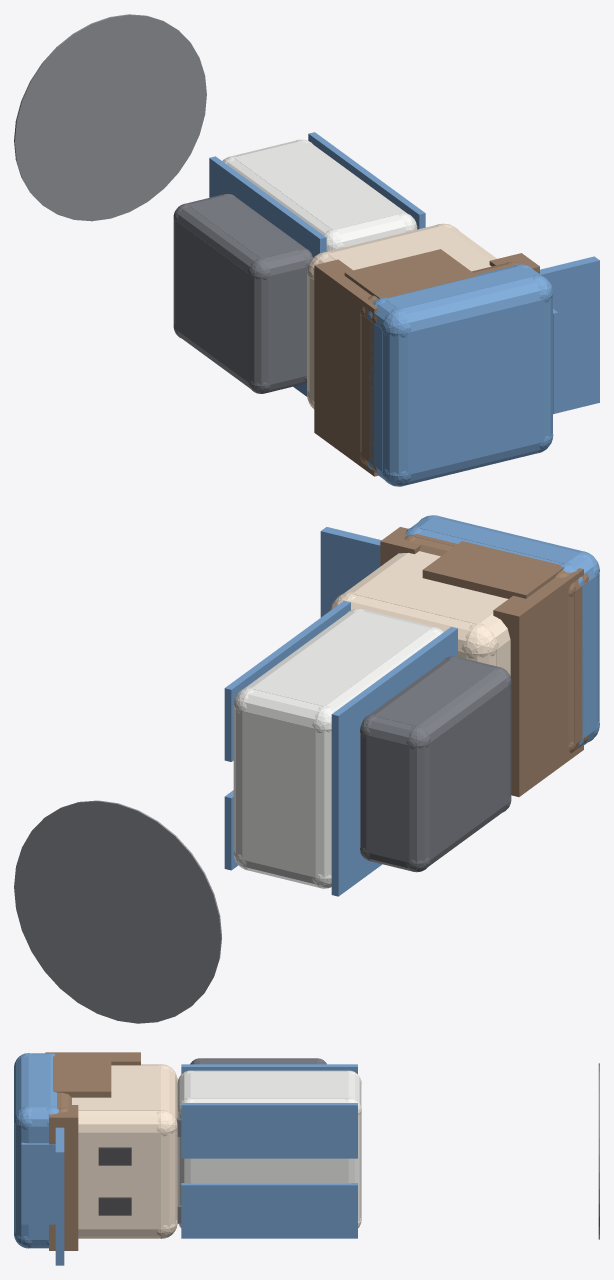
File: person.glb
3 renders of one model, top to bottom at view 1: azimuth 30°, elevation 25°; view 2: azimuth 150°, elevation 25°; view 3: azimuth 270°, elevation 25°, orthographic. The views are drawn at different scales.
Visible parts, largest first — view 1: shadow_visual, cap_z_visual, hair_back_visual, backpack_x_visual, torso_y_visual, cap_brim_visual, backpack_z_visual, cap_edge3_visual, cap_edge5_visual, hair_side_left_visual, head_y_visual, vest_back_visual (+16 smaller); view 2: shadow_visual, hair_back_visual, torso_z_visual, backpack_x_visual, vest_back_visual, torso_y_visual, backpack_z_visual, hair_side_left_visual, head_y_visual, cap_brim_visual, backpack_y_visual, torso_edge4_visual (+18 smaller); view 3: vest_left_visual, vest_right_visual, head_x_visual, torso_y_visual, torso_x_visual, cap_front_visual, head_y_visual, hair_fringe_visual, hair_side_left_visual, head_edge11_visual, head_edge6_visual, cap_brim_visual (+19 smaller).
Boxes of the visible parts, box(x1,y1,x2,y2) form: shadow_visual: box(14, 14, 206, 221); cap_z_visual: box(408, 299, 543, 474); hair_back_visual: box(314, 259, 378, 476); backpack_x_visual: box(175, 220, 249, 382); torso_y_visual: box(234, 141, 400, 230); cap_brim_visual: box(540, 256, 599, 412); backpack_z_visual: box(268, 267, 307, 385); cap_edge3_visual: box(381, 275, 553, 336); cap_edge5_visual: box(382, 308, 408, 486); hair_side_left_visual: box(344, 249, 476, 298); head_y_visual: box(328, 225, 491, 271); vest_back_visual: box(209, 156, 326, 396); shadow_visual: box(14, 800, 221, 1023); hair_back_visual: box(493, 568, 583, 796); torso_z_visual: box(242, 711, 315, 877); backpack_x_visual: box(429, 685, 509, 860); vest_back_visual: box(331, 627, 457, 896); torso_y_visual: box(251, 610, 431, 706); backpack_z_visual: box(366, 735, 409, 862); hair_side_left_visual: box(422, 541, 564, 598); head_y_visual: box(352, 551, 507, 624); cap_brim_visual: box(320, 527, 381, 617); backpack_y_visual: box(374, 657, 495, 726); torso_edge4_visual: box(315, 706, 334, 888); vest_left_visual: box(181, 1103, 357, 1158); vest_right_visual: box(181, 1183, 357, 1238); head_x_visual: box(78, 1132, 160, 1229); torso_y_visual: box(190, 1071, 348, 1098); torso_x_visual: box(190, 1158, 348, 1183); cap_front_visual: box(21, 1142, 55, 1224); head_y_visual: box(72, 1065, 160, 1110); hair_fringe_visual: box(49, 1105, 78, 1250); hair_side_left_visual: box(53, 1054, 111, 1097); head_edge11_visual: box(78, 1110, 177, 1133); head_edge6_visual: box(157, 1109, 177, 1238); cap_brim_visual: box(55, 1127, 64, 1265).
Bounding box in the file's own units: 0.65 × 0.48 × 1.59.
